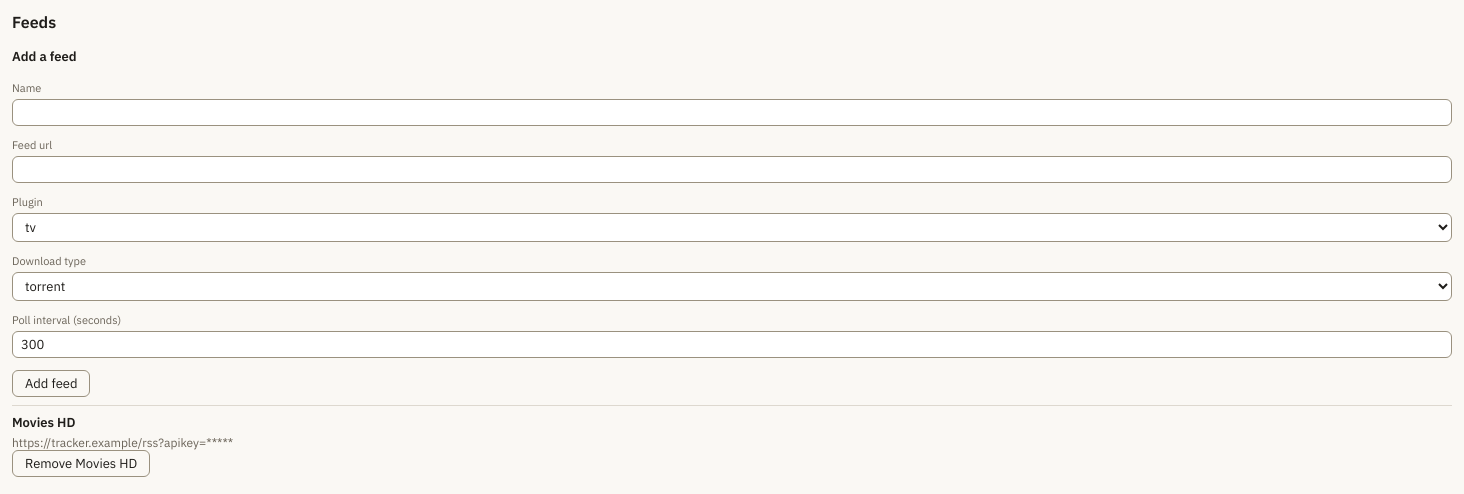
Test case: the removal sentence outlives the row the replica deletes
Click the button "Remove Movies HD": point(81, 464) [12,450,150,477]
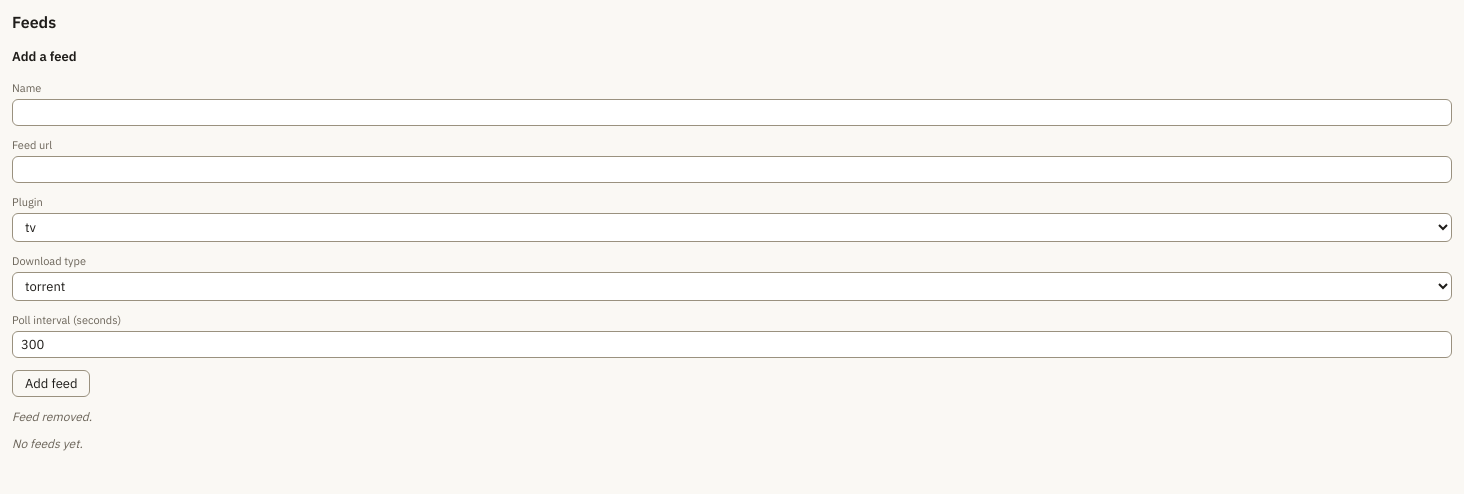
Result: the message reads "Feed removed." at [12,409,92,424]
